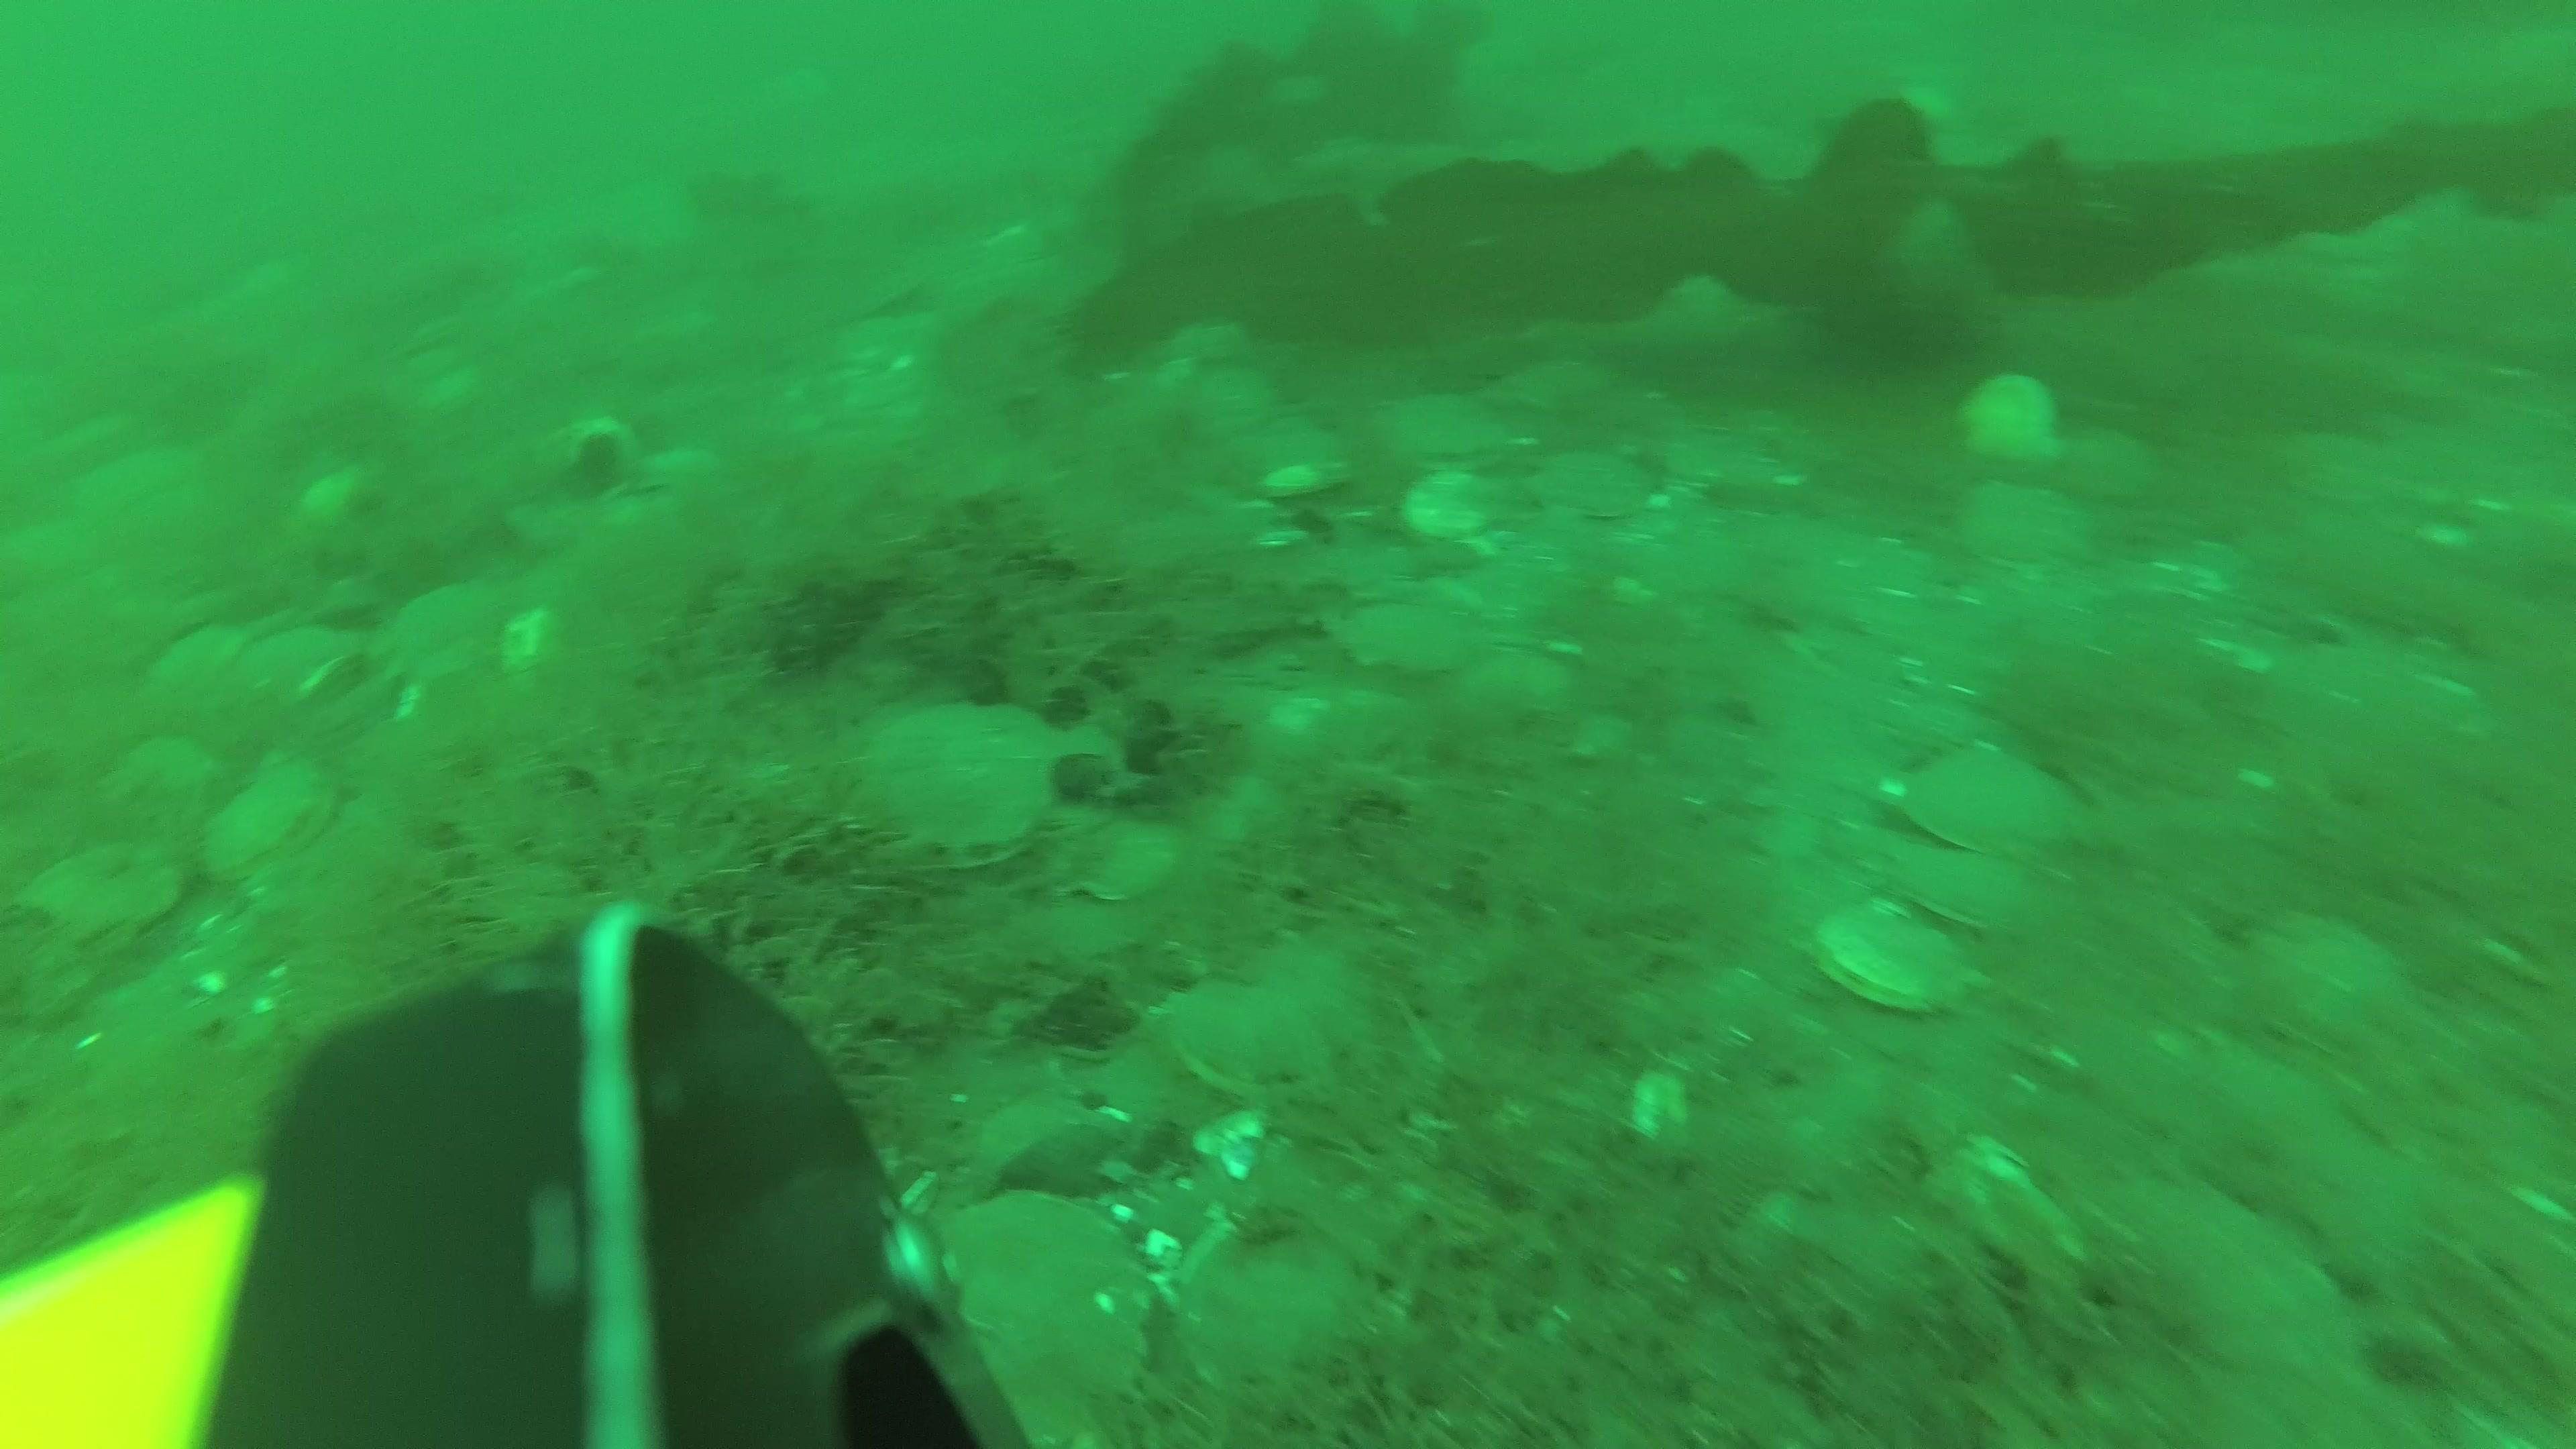scallop: (2059, 1175, 2378, 1449), (941, 1205, 1157, 1435), (862, 697, 1086, 879), (1162, 977, 1350, 1116), (1902, 734, 2079, 855), (2265, 908, 2406, 1047), (1824, 899, 1967, 1031), (203, 763, 347, 892), (25, 847, 170, 975), (1879, 833, 2038, 941), (1339, 589, 1479, 694), (1964, 368, 2081, 479), (1974, 476, 2093, 586), (1217, 419, 1346, 501), (1537, 439, 1658, 524), (1384, 386, 1495, 474), (1081, 823, 1182, 913), (1398, 460, 1491, 552), (2068, 426, 2157, 508), (1182, 368, 1279, 441)
